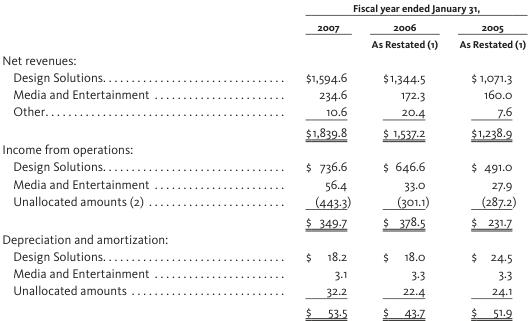table: (1, 0, 525, 318)
table column: (1, 0, 230, 318), (230, 0, 360, 318), (360, 0, 447, 318), (447, 0, 525, 318)
table column header: (1, 0, 525, 50)
table projected row header: (1, 50, 525, 68), (1, 140, 525, 157), (1, 229, 525, 246)
table row: (1, 16, 525, 50), (1, 102, 525, 121), (1, 121, 525, 140), (1, 191, 525, 210), (1, 210, 525, 229), (1, 281, 525, 300), (1, 50, 525, 68), (1, 263, 525, 281), (1, 300, 525, 318), (1, 68, 525, 85), (1, 85, 525, 102), (1, 140, 525, 157), (1, 157, 525, 174), (1, 174, 525, 191), (1, 229, 525, 246), (1, 246, 525, 263), (1, 0, 525, 16)
table spanning cell: (230, 0, 525, 16)
